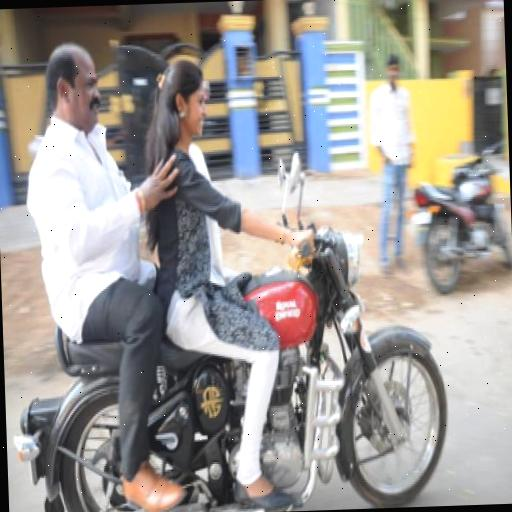no helmet: (128, 14, 438, 508)
